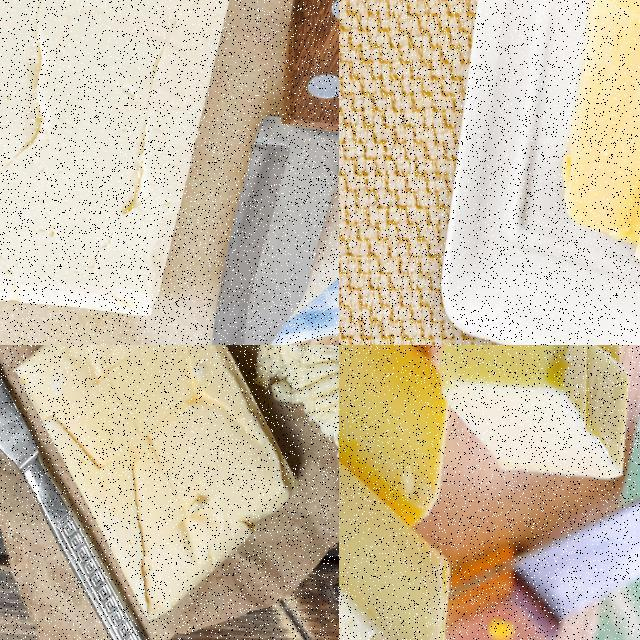Butter: (0, 0, 252, 321), (15, 345, 300, 623), (407, 345, 634, 485), (339, 421, 448, 639), (339, 345, 451, 542), (560, 0, 639, 279), (221, 345, 338, 467)
